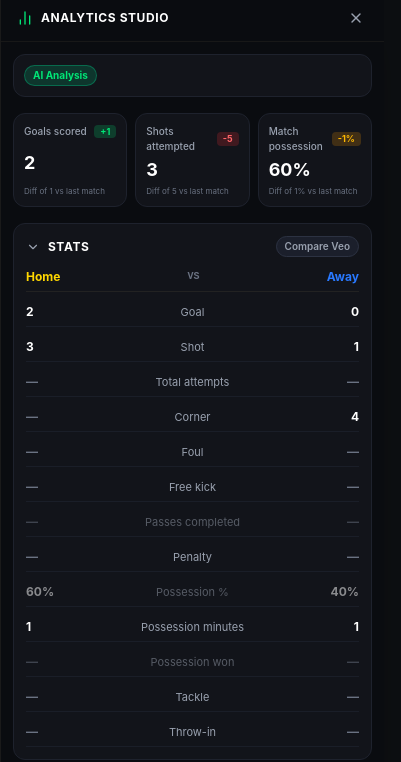
Scenario: toggles benchmark mode and displays ground truth comparison rows
Step 1. Click the button "Compare Veo" → (317, 246), box [276, 236, 359, 257]
(page scrolled)
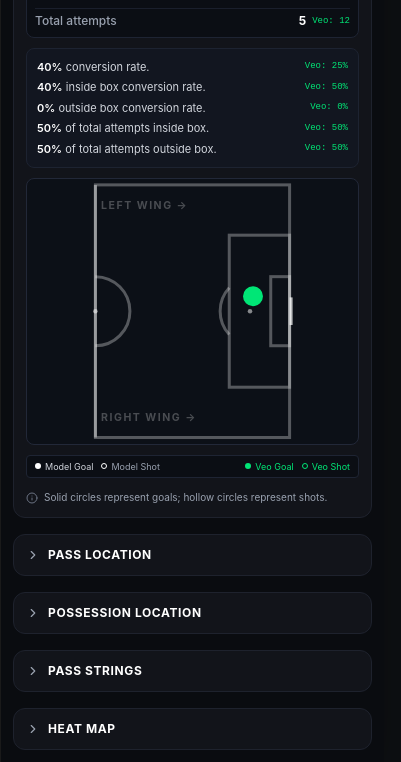
Result: the text "Veo: 25%" is shown at [305, 60, 348, 74]
Result: the text "Veo Goal" is shown at [245, 460, 294, 473]
Result: the text "Veo Shot" is shown at [302, 460, 350, 473]
